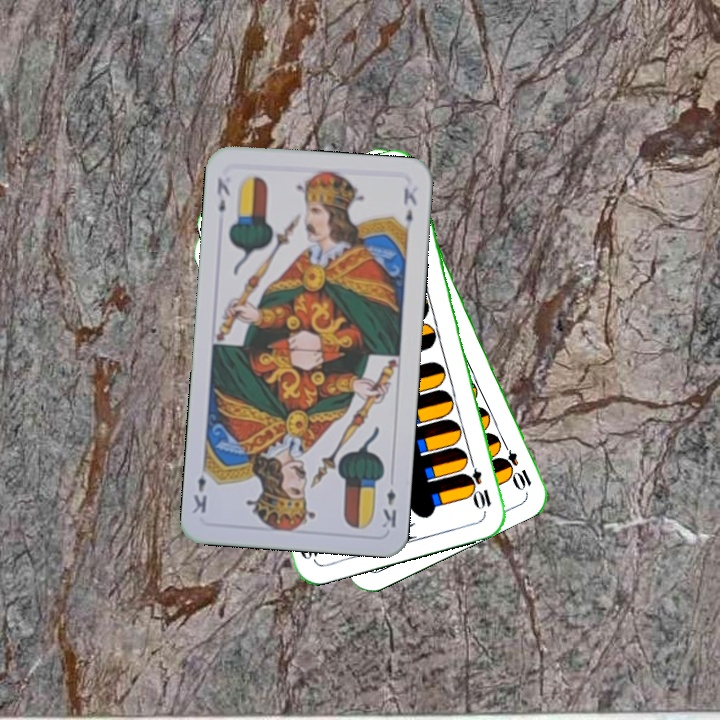E10: (498, 436, 535, 492), (462, 454, 494, 512)
EK: (378, 485, 399, 531), (212, 174, 233, 215)
